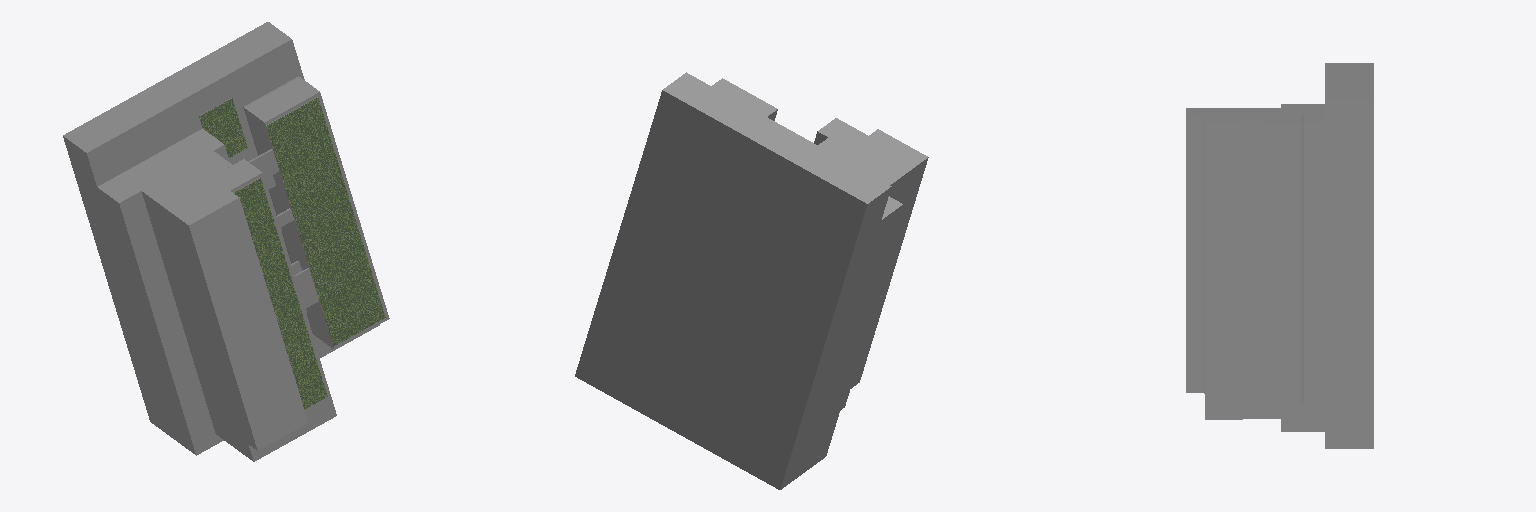
The picture shows the model from 3 angles: view 1: azimuth 30°, elevation 25°; view 2: azimuth 150°, elevation 25°; view 3: azimuth 270°, elevation 25°; orthographic projection.
Bounding box in the file's own units: 253 × 307 × 140.
Materials: 3 (1 with a texture image).